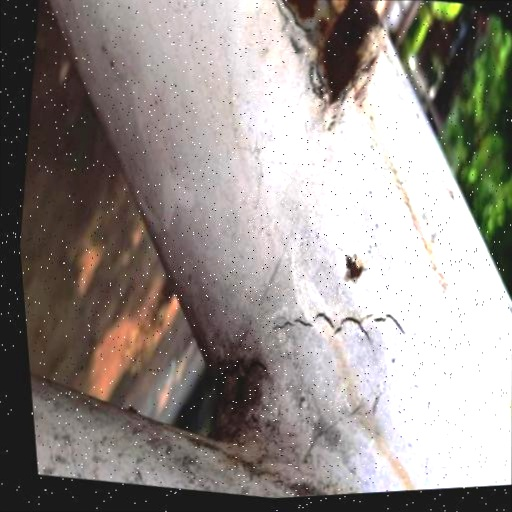crack: (258, 290, 419, 363)
